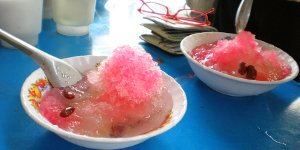O-eo: (25, 49, 189, 149), (185, 25, 297, 100)
